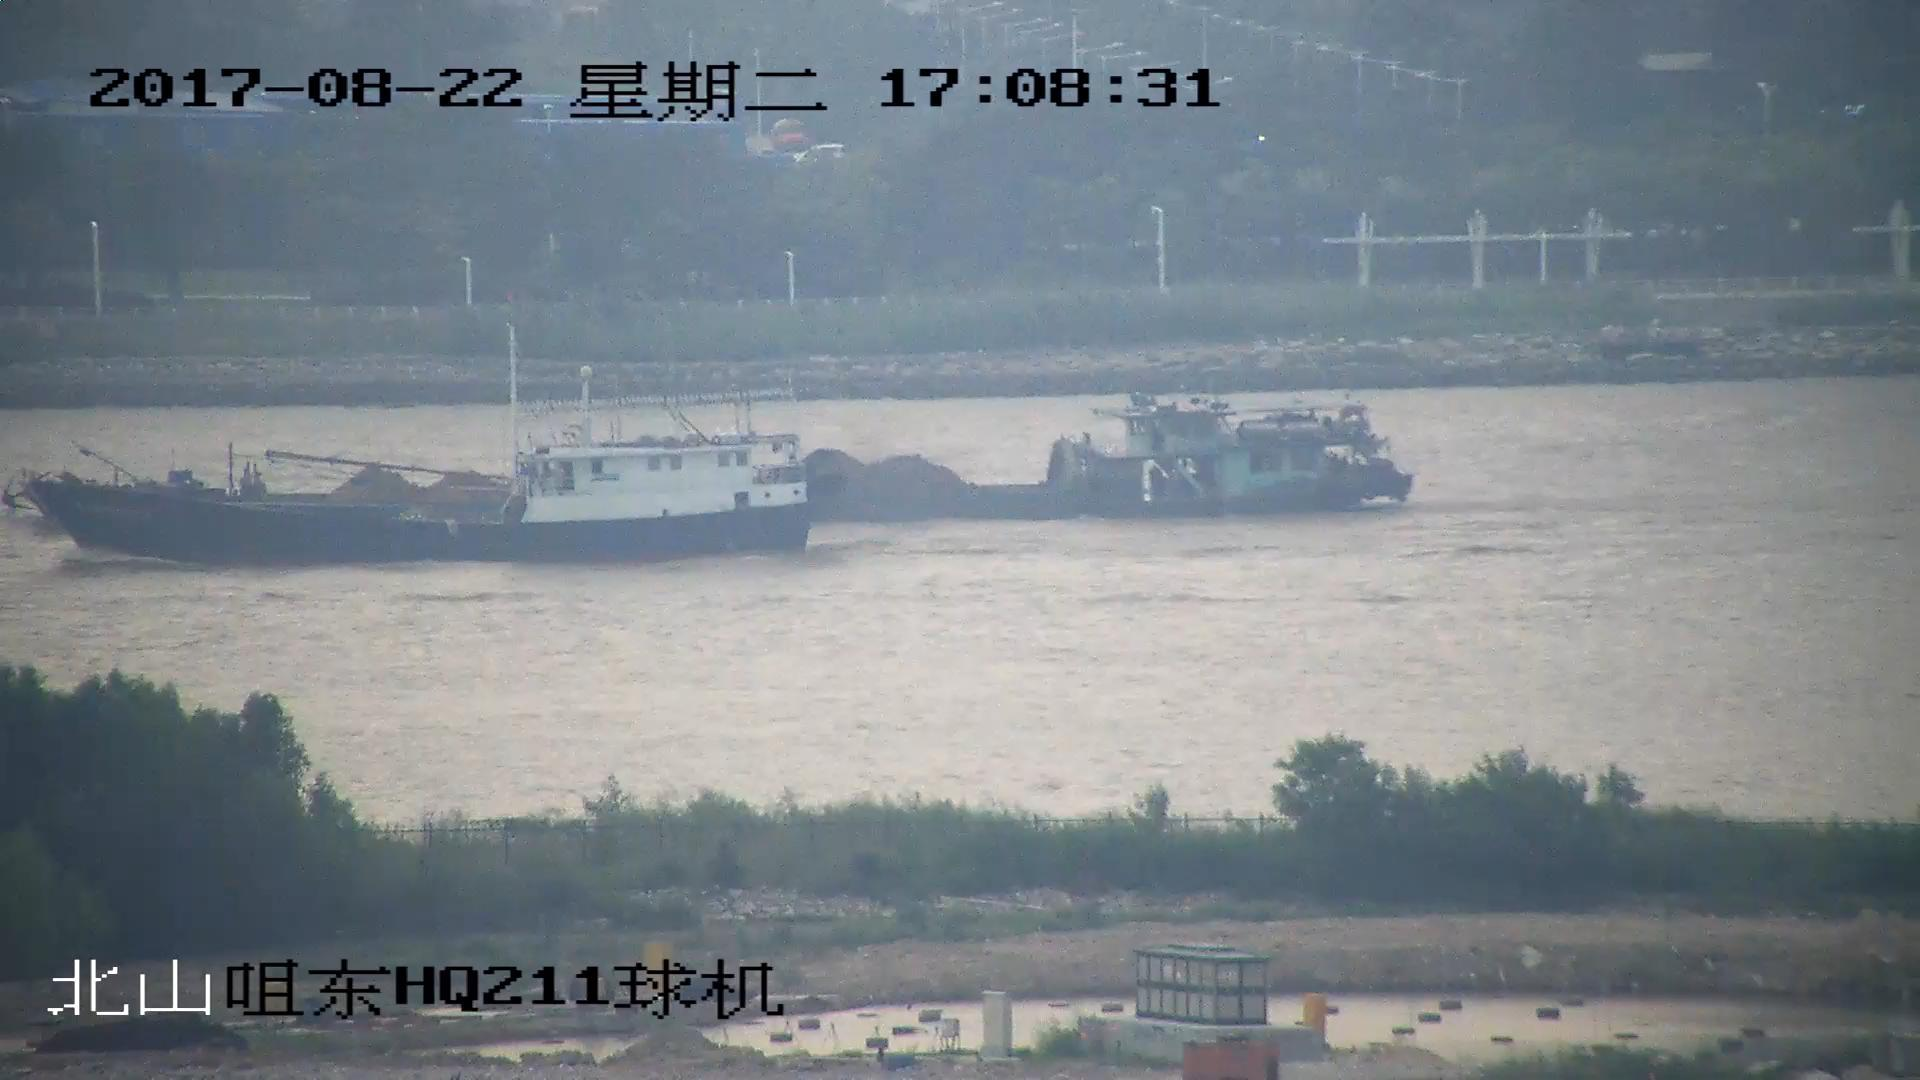Ship: (3, 386, 1419, 524), (32, 377, 814, 562)
